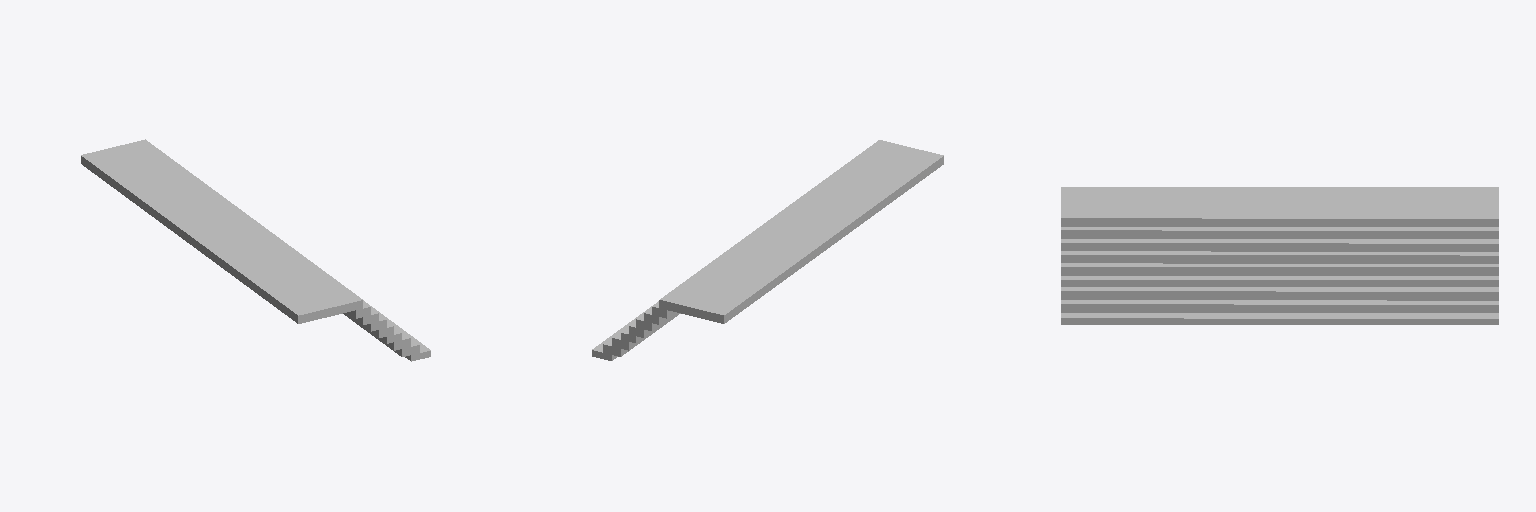
Rendered from benches2.obj.
3 renders of one model, left to right at view 1: azimuth 30°, elevation 25°; view 2: azimuth 150°, elevation 25°; view 3: azimuth 270°, elevation 25°, orthographic.
Parts seen in each view (by area): view 1: benches2_Cube.012; view 2: benches2_Cube.012; view 3: benches2_Cube.012.
Part boxes in pixels (left/top/right/bottom): benches2_Cube.012: left=81, top=139, right=430, bottom=361; benches2_Cube.012: left=592, top=140, right=943, bottom=360; benches2_Cube.012: left=1061, top=187, right=1498, bottom=324.
Bounding box in the file's own units: 13.96 × 7.31 × 39.6.